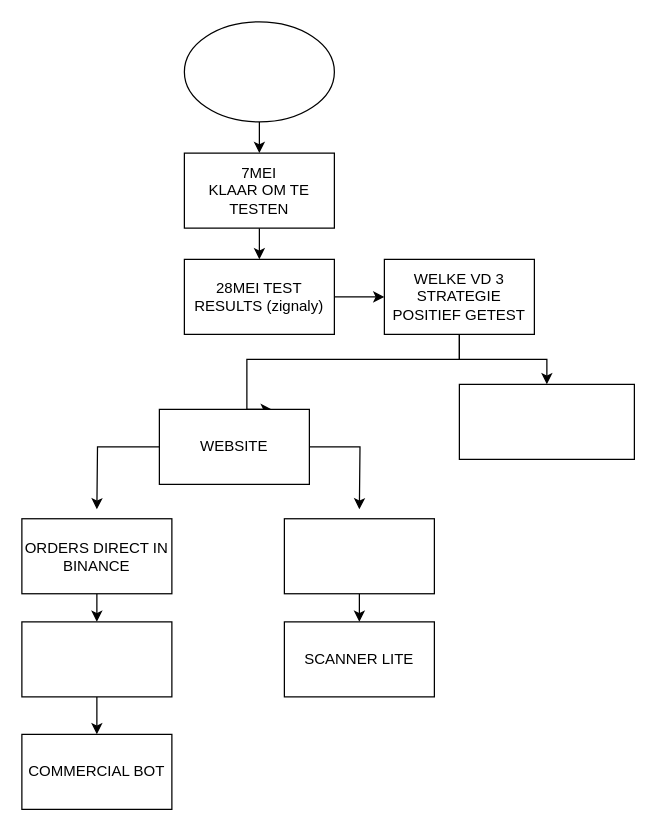
The diagram is 656 pixels wide and 831 high, and some of its shapes have lost their labels. The centre of each missing label's shape, as x and y in pixels:
COMMERCIEEL, only scanner: pixel 358 556
EIGEN GEBRUIK: pixel 546 421
RAODMAP: pixel 258 71
TESTEN ORDERING BINANCE: pixel 96 659
